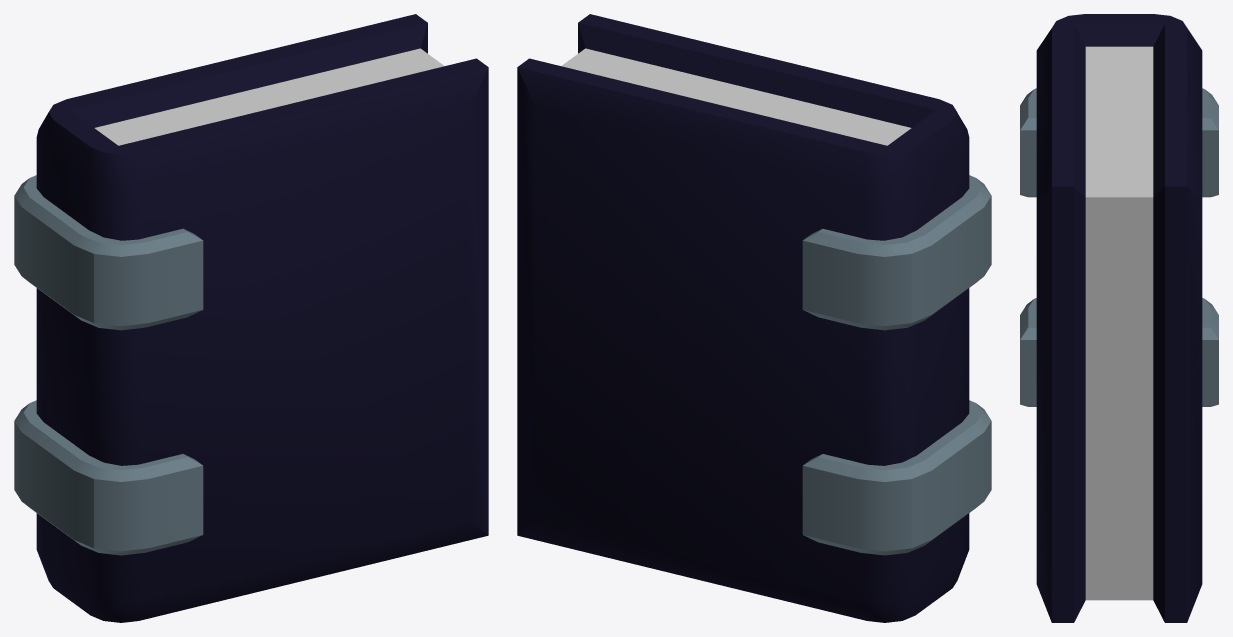
The model's file is bookB.obj.
3 renders of one model, left to right at view 1: azimuth 30°, elevation 25°; view 2: azimuth 150°, elevation 25°; view 3: azimuth 270°, elevation 25°, orthographic. The views are drawn at different scales.
Parts seen in each view (by area): view 1: bookB_Cube.4069; view 2: bookB_Cube.4069; view 3: bookB_Cube.4069.
Boxes of the visible parts, box(x1,y1,x2,y2) form: bookB_Cube.4069: box(14, 14, 488, 622); bookB_Cube.4069: box(517, 14, 991, 622); bookB_Cube.4069: box(1020, 14, 1218, 622).
Bounding box in the file's own units: 0.3758 × 0.4161 × 0.172.
